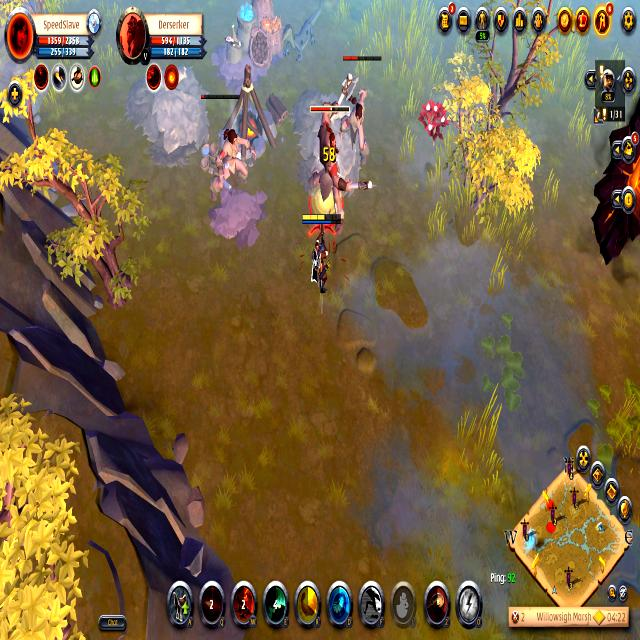hide: (415, 89, 449, 151)
ore: (306, 102, 372, 230), (196, 87, 251, 202), (332, 52, 384, 162), (278, 0, 334, 69)
red: (298, 204, 347, 297)
